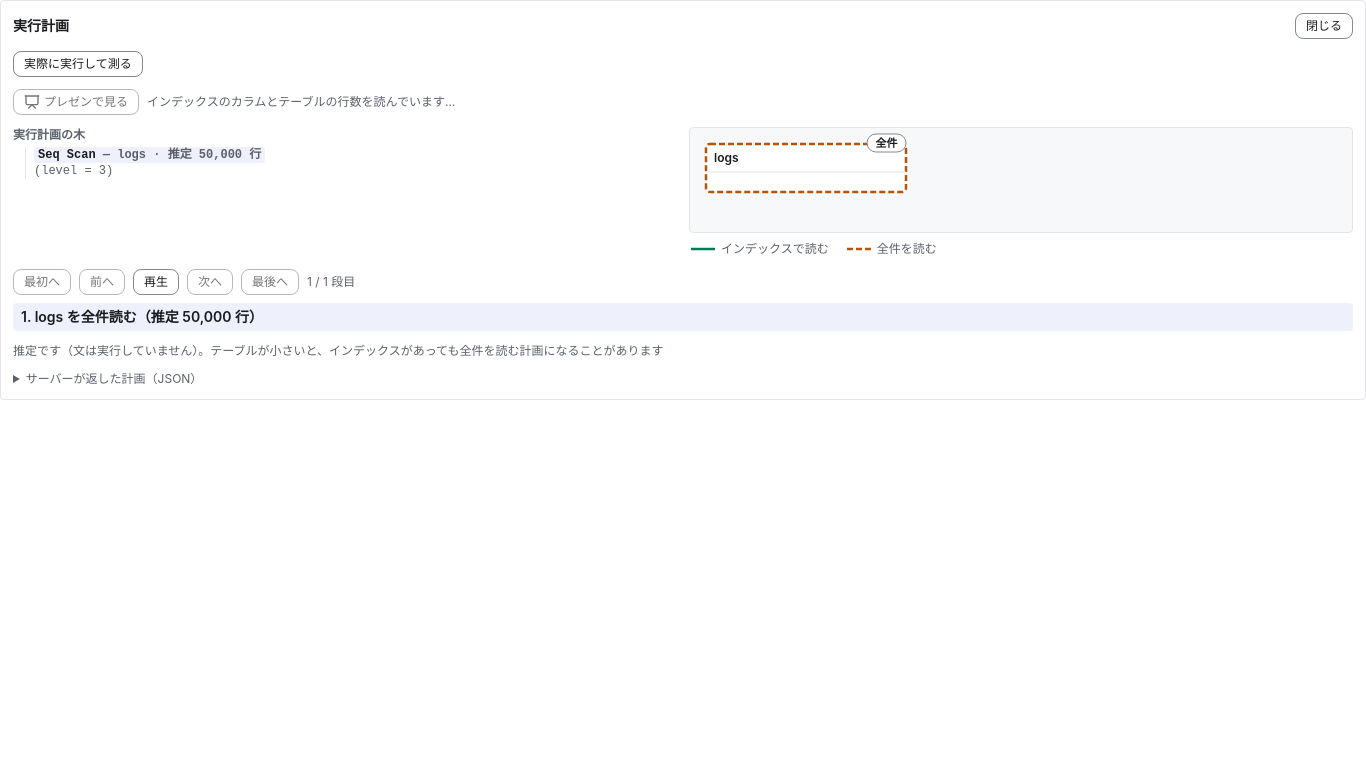
it: PlanView › trying an index › makes and drops it the plain way where building without stopping writes is turned off
Step 1. Click the button "実際に実行して測る" → (78, 64), box [13,51,143,77]
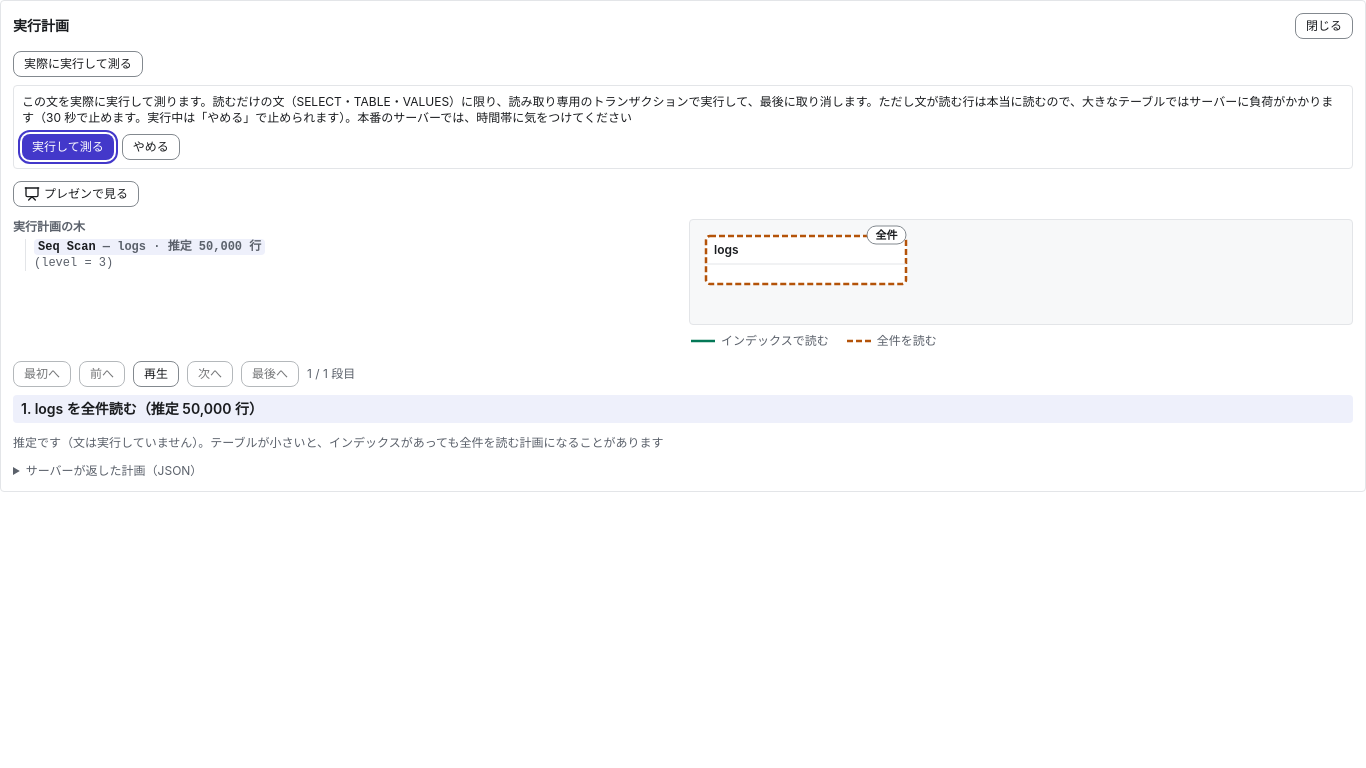
Step 2. Click the button "実行して測る" → (68, 147), box [22,134,114,160]
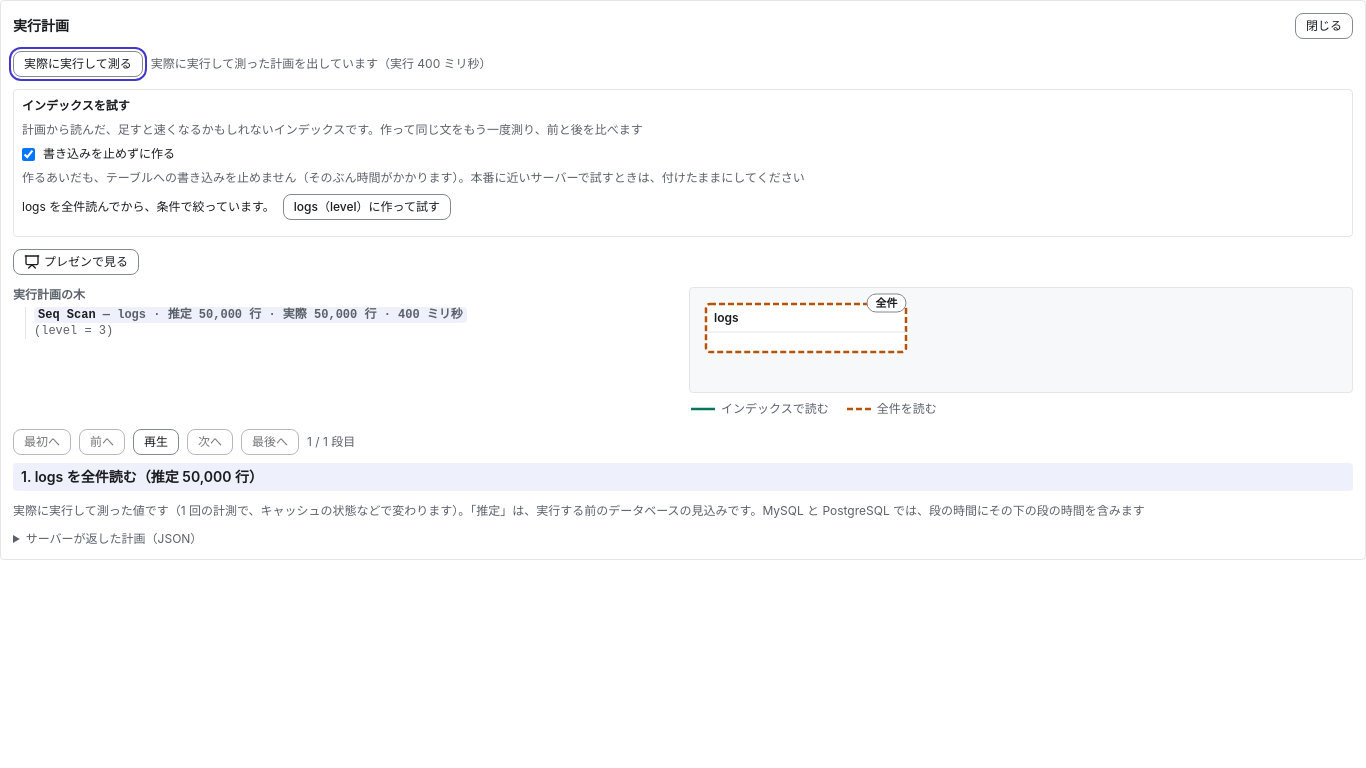
Step 3. Click the checkbox labelled "書き込みを止めずに作る" → (28, 154), box [22,148,35,161]
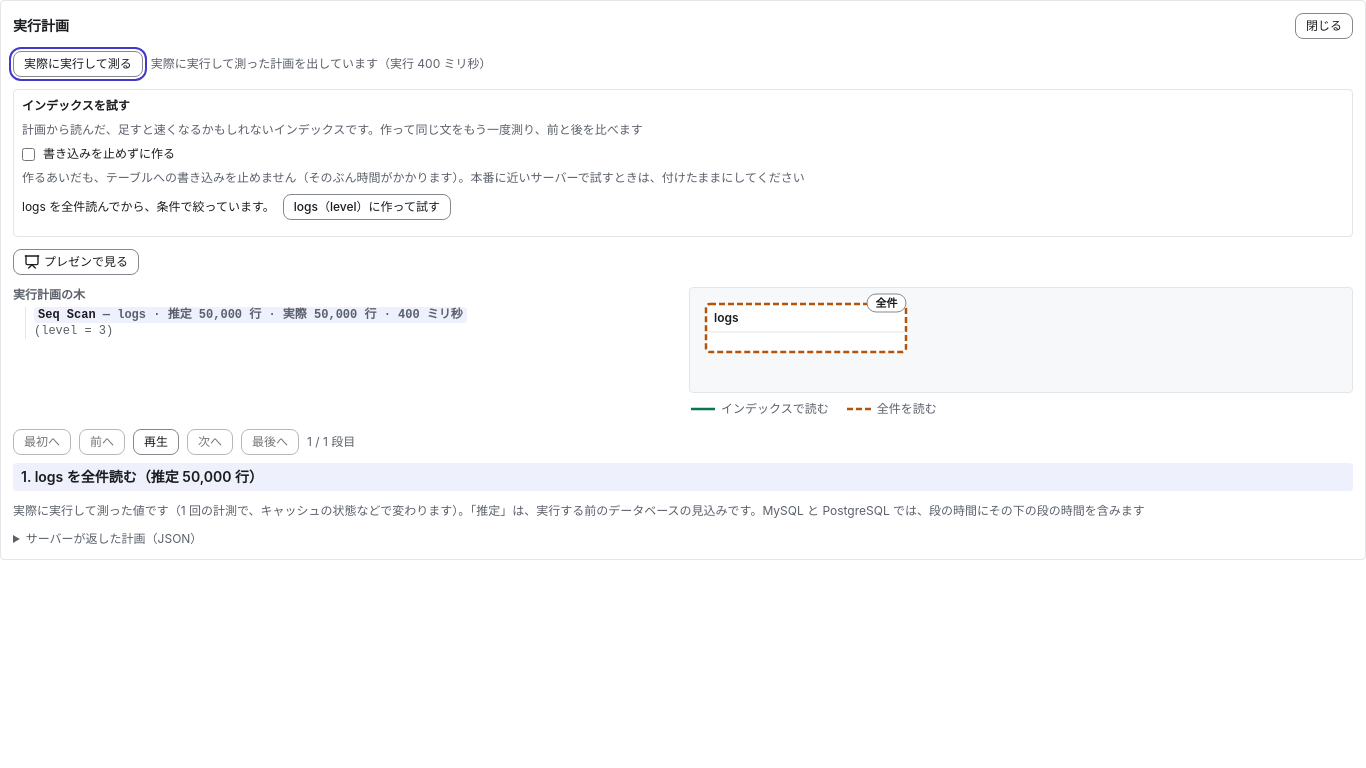
Step 4. Click the button "logs（level）に作って試す" → (367, 207), box [283,194,451,220]
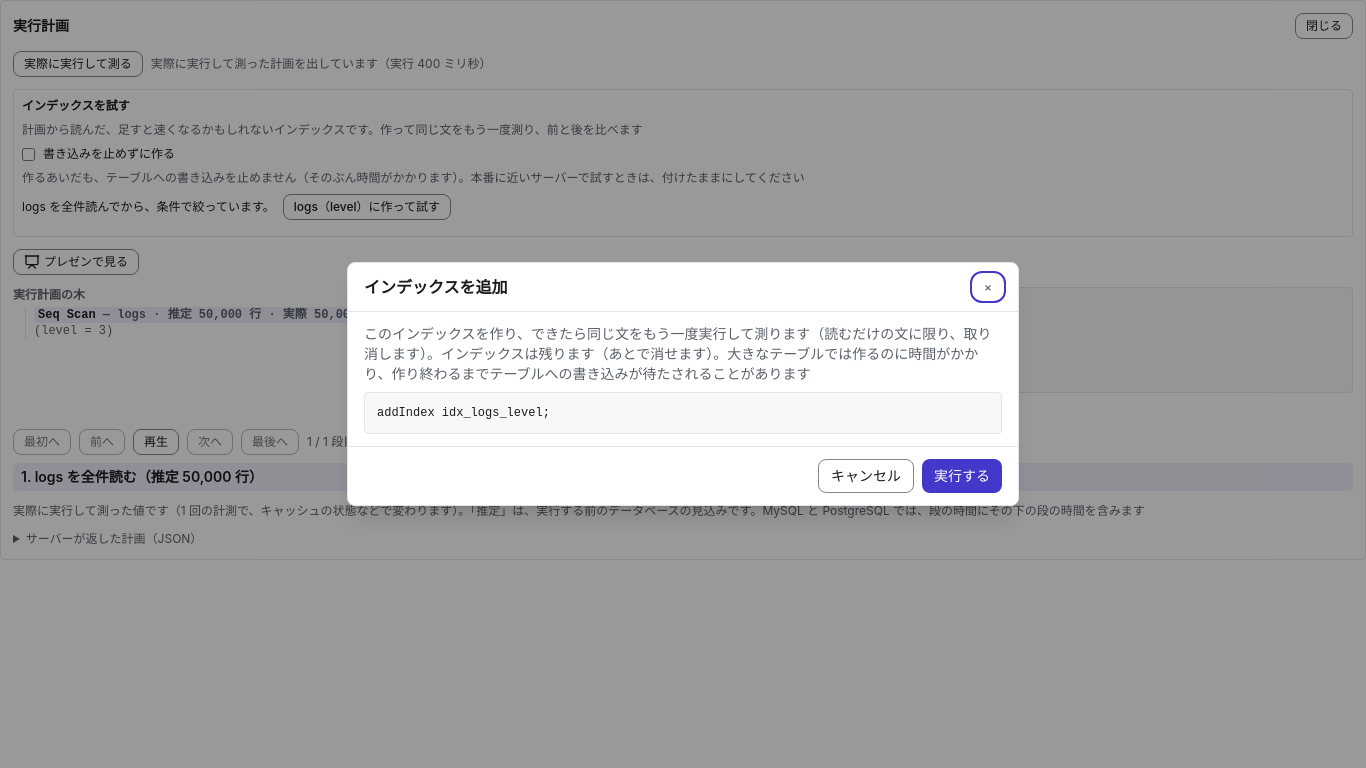
Step 5. Click the button "実行する" → (962, 476), box [922,459,1002,493]
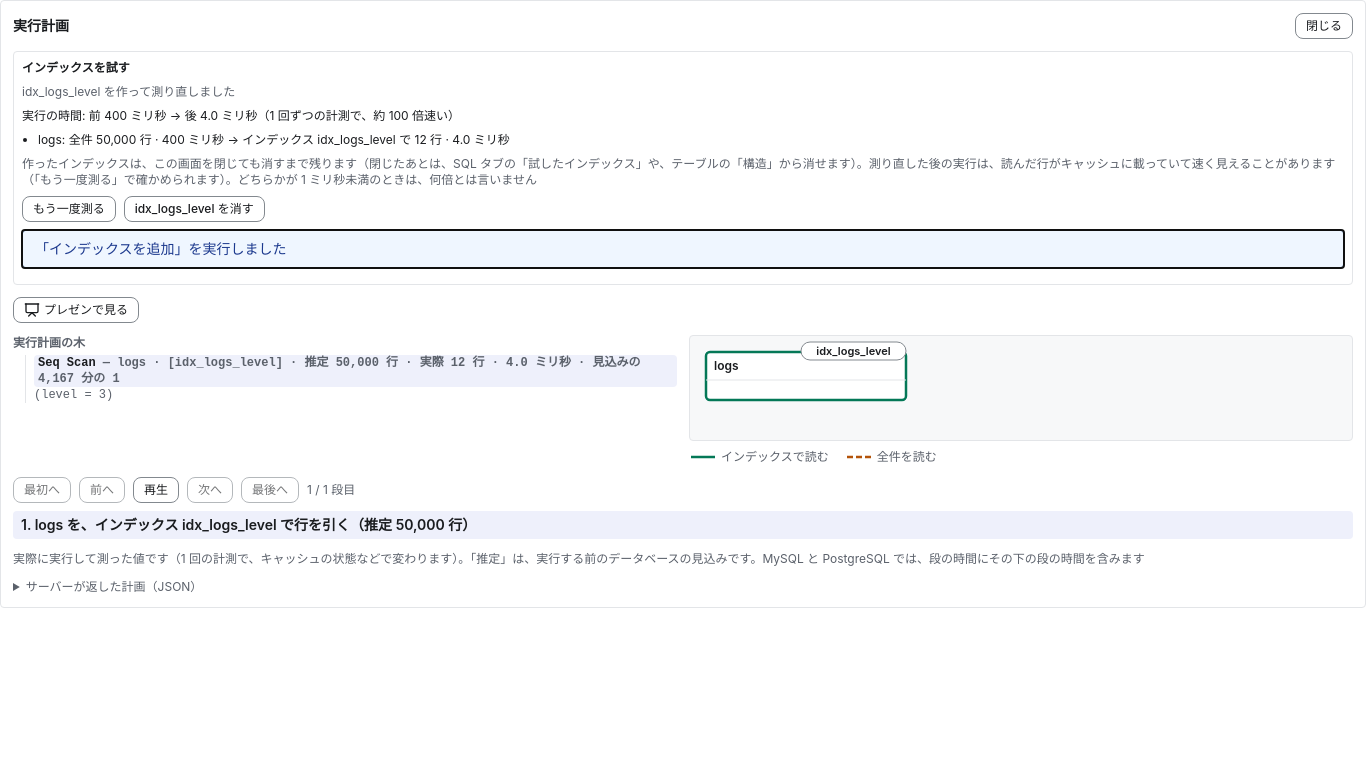
Step 6. Click the button "idx_logs_level を消す" → (194, 209), box [124,196,265,222]
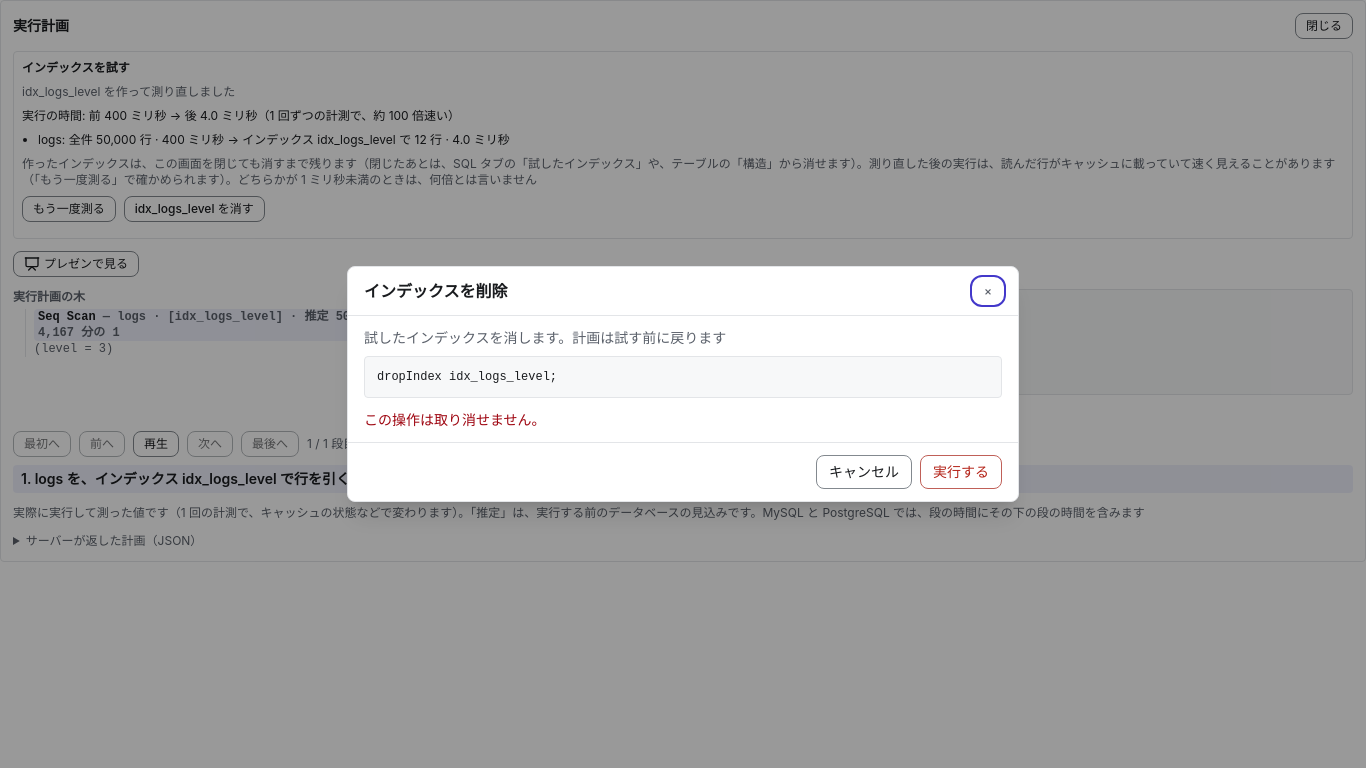
Check: the dialog "インデックスを削除" is shown, box [347,266,1019,502]
